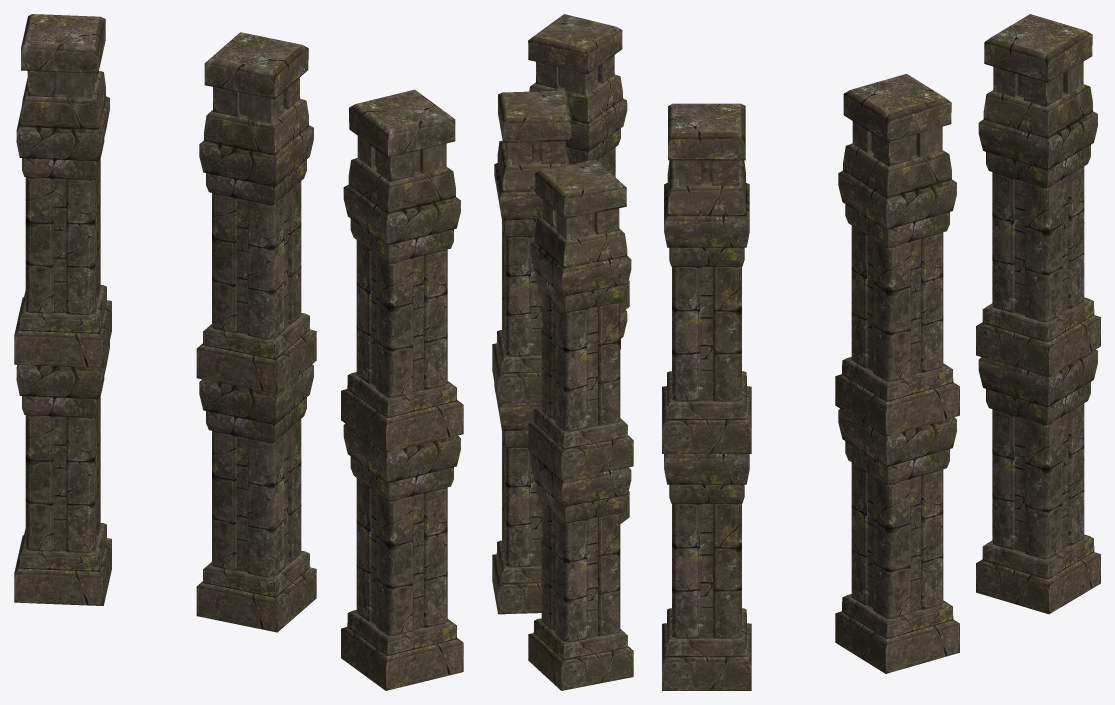
Rendered from Column_Group_05-transformed.glb.
The picture shows the model from 3 angles, left to right: view 1: azimuth 30°, elevation 25°; view 2: azimuth 150°, elevation 25°; view 3: azimuth 270°, elevation 25°; orthographic projection. The views are drawn at different scales.
Visible parts, largest first — view 1: default; view 2: default; view 3: default.
Part boxes in pixels (<box>): default: <box>14,14,463,690</box>; default: <box>492,14,633,690</box>; default: <box>662,14,1100,690</box>.
Size of the model in its own units: 4.68 by 9.34 by 6.71.
Materials: 1 (1 with a texture image).
